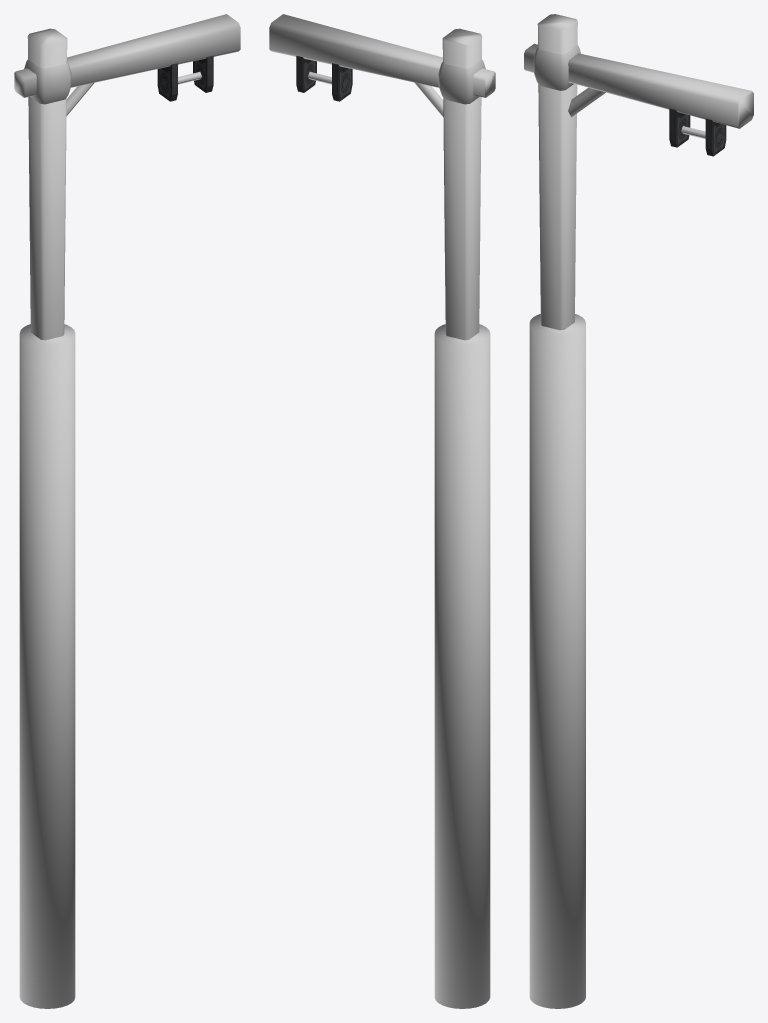
The model's file is Ob_Zipline_base_high_Wood.fbx.
The picture shows the model from 3 angles, left to right: view 1: azimuth 30°, elevation 25°; view 2: azimuth 150°, elevation 25°; view 3: azimuth 330°, elevation 25°; orthographic projection.
Visible parts, largest first — view 1: cmn_obj_pulleystand_HD.003; view 2: cmn_obj_pulleystand_HD.003; view 3: cmn_obj_pulleystand_HD.003.
Boxes of the visible parts, x1,y1,x2,y2 form: cmn_obj_pulleystand_HD.003: (14,14,240,1008); cmn_obj_pulleystand_HD.003: (269,14,495,1008); cmn_obj_pulleystand_HD.003: (524,14,753,1008).
Size of the model in its own units: 1.77 by 7.62 by 0.4.
